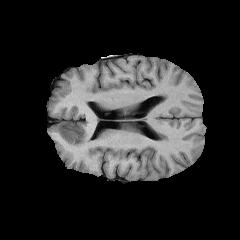glioma: (59, 121, 91, 147)
